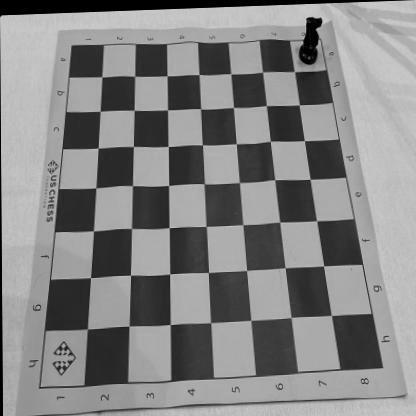black-knight: (298, 16, 323, 65)
